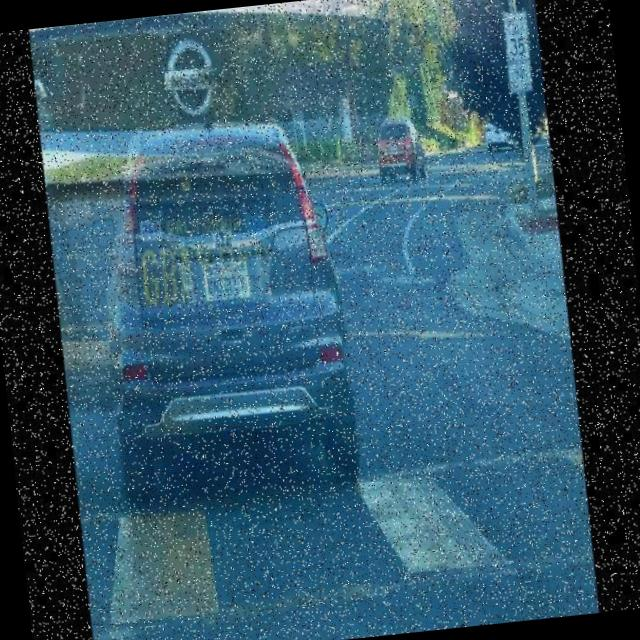LicensePlate: (205, 259, 251, 303)
